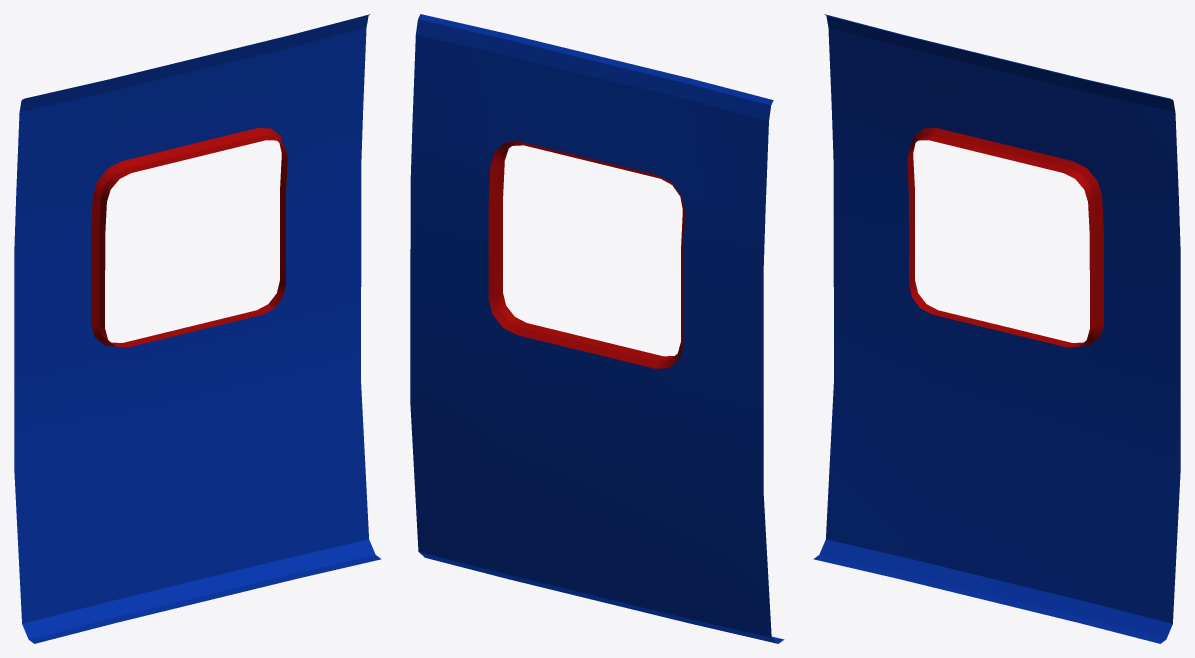
The model's file is asset_murext_2x4_fenetre.fbx.
The picture shows the model from 3 angles, left to right: view 1: azimuth 30°, elevation 25°; view 2: azimuth 150°, elevation 25°; view 3: azimuth 330°, elevation 25°; orthographic projection.
Parts seen in each view (by area): view 1: Module_murext2x4_low3; view 2: Module_murext2x4_low3; view 3: Module_murext2x4_low3.
Part boxes in pixels (left/top/right/bottom): Module_murext2x4_low3: left=14, top=14, right=381, bottom=643; Module_murext2x4_low3: left=410, top=14, right=784, bottom=643; Module_murext2x4_low3: left=813, top=14, right=1180, bottom=643.
Bounding box in the file's own units: 1.94 × 2.86 × 0.209.
